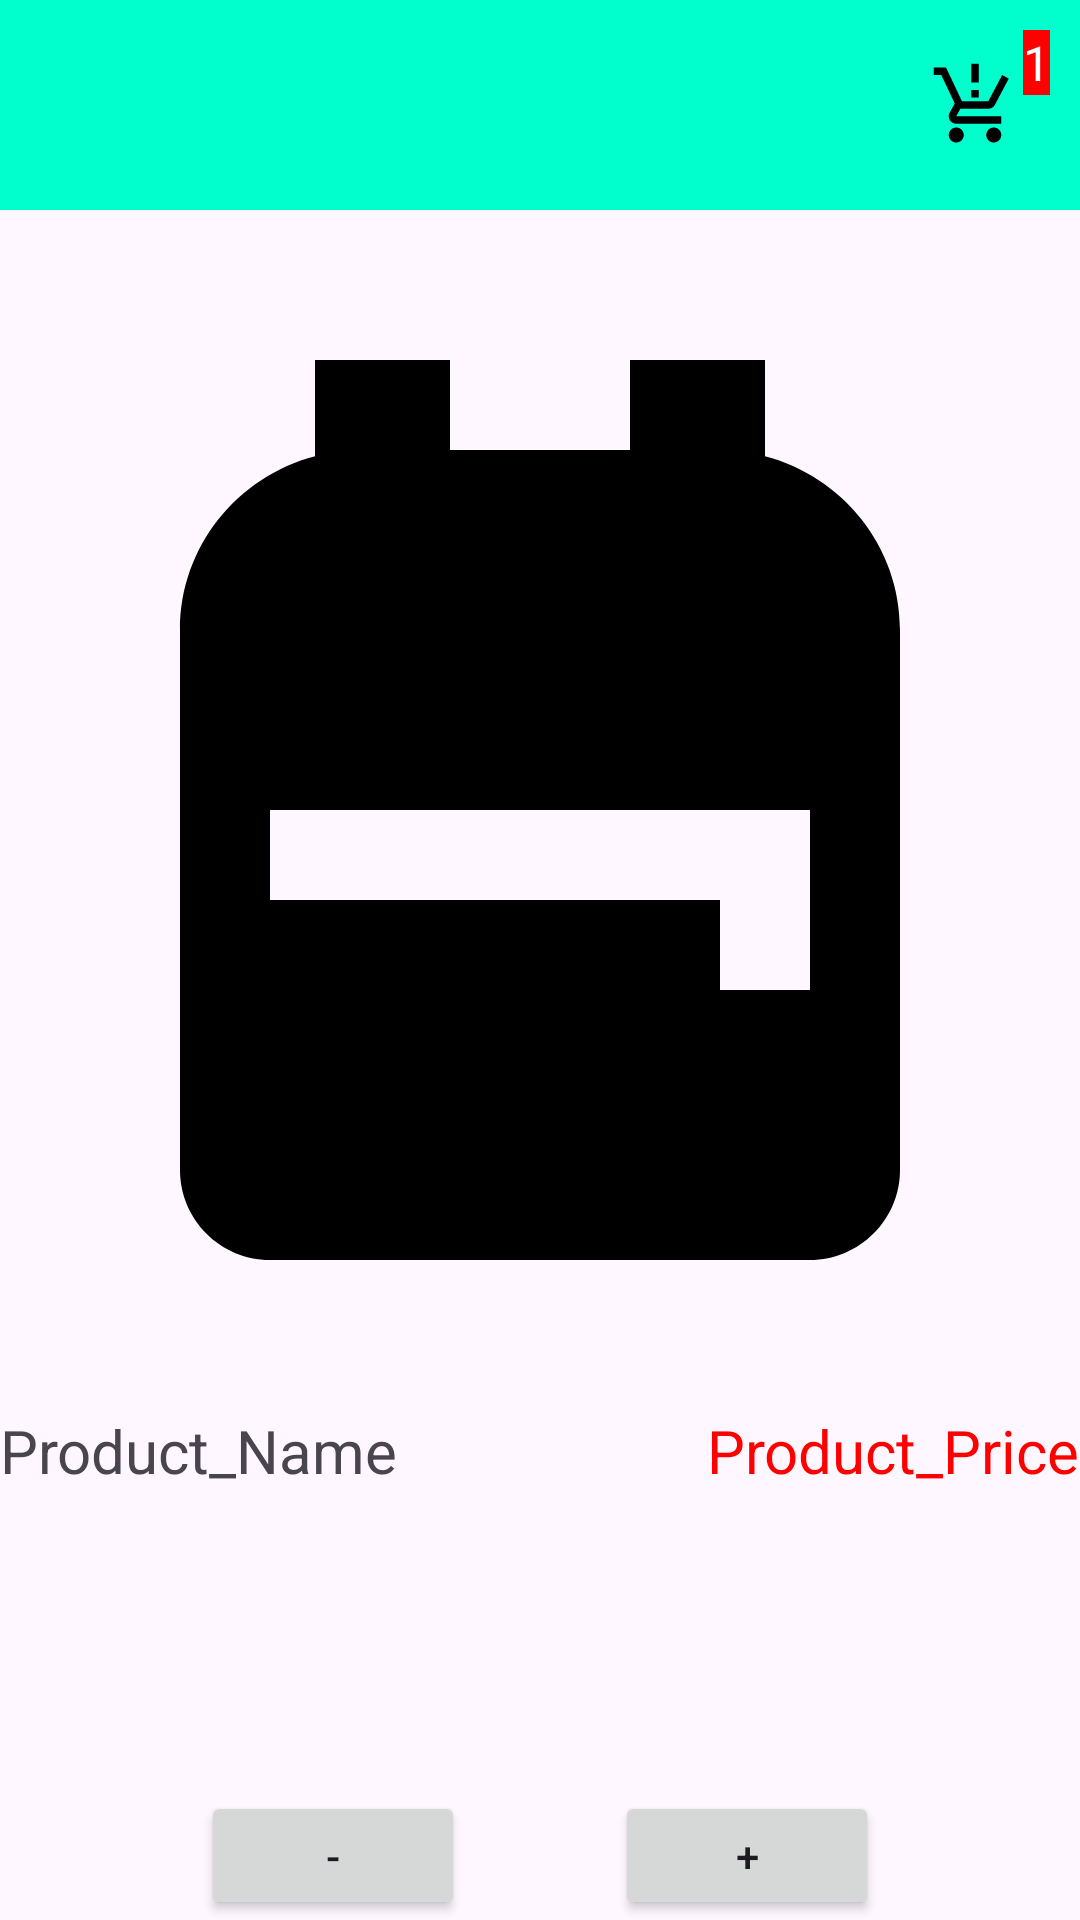

Icons on this 1080*1920 Android screen, each with its box as (x1, y1, x2, y2):
production quantity limits: (933, 30, 1050, 143)
